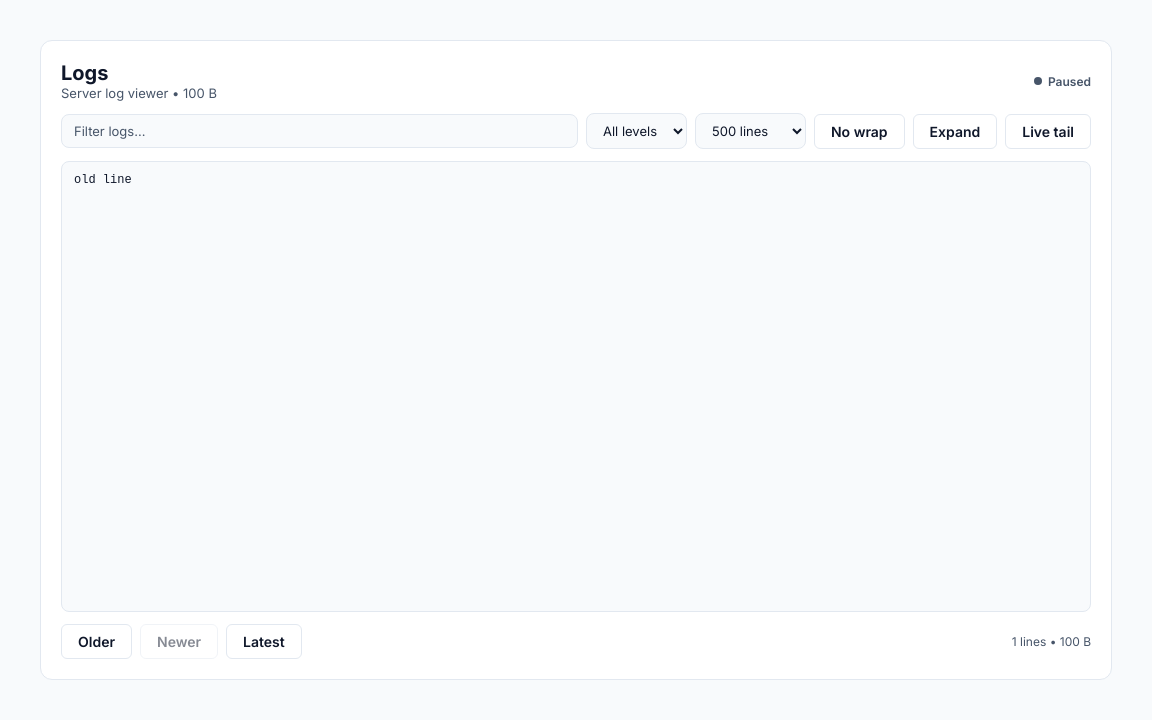
Test: LogsView › loads newer lines in the forward direction
The width and height of the screenshot is (1152, 720).
expect the text "old line" is shown: met, box [74, 173, 132, 187]
Click the button with test id "logs-load-older".
click(96, 642)  # box [61, 624, 132, 659]
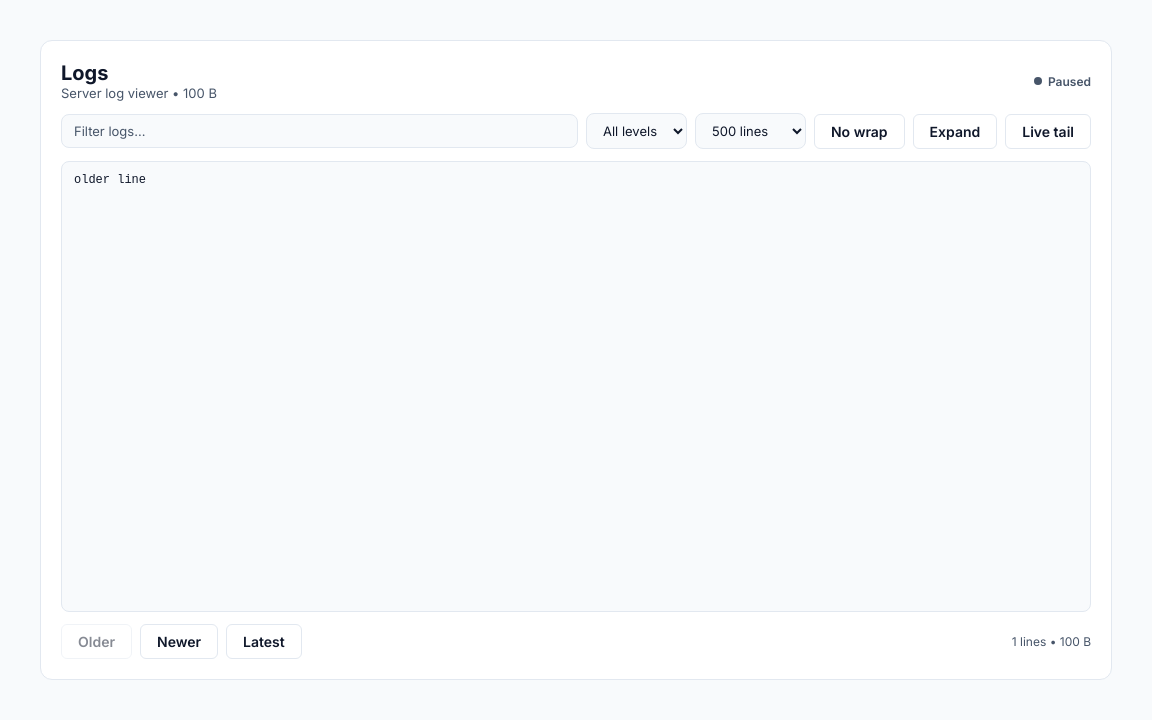
expect the text "older line" is shown: met, box [74, 173, 146, 187]
expect the button with test id "logs-load-newer" is enabled: met
Click the button with test id "logs-load-newer".
click(179, 642)  # box [140, 624, 218, 659]
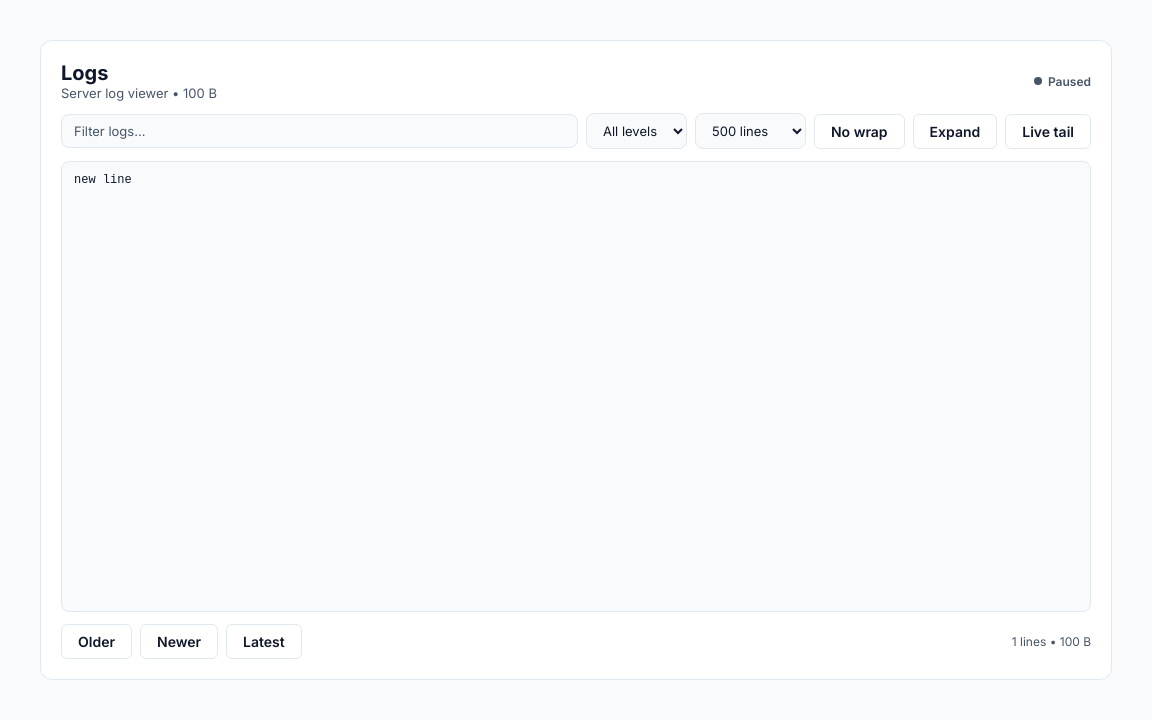
expect the text "new line" is shown: met, box [74, 173, 132, 187]
